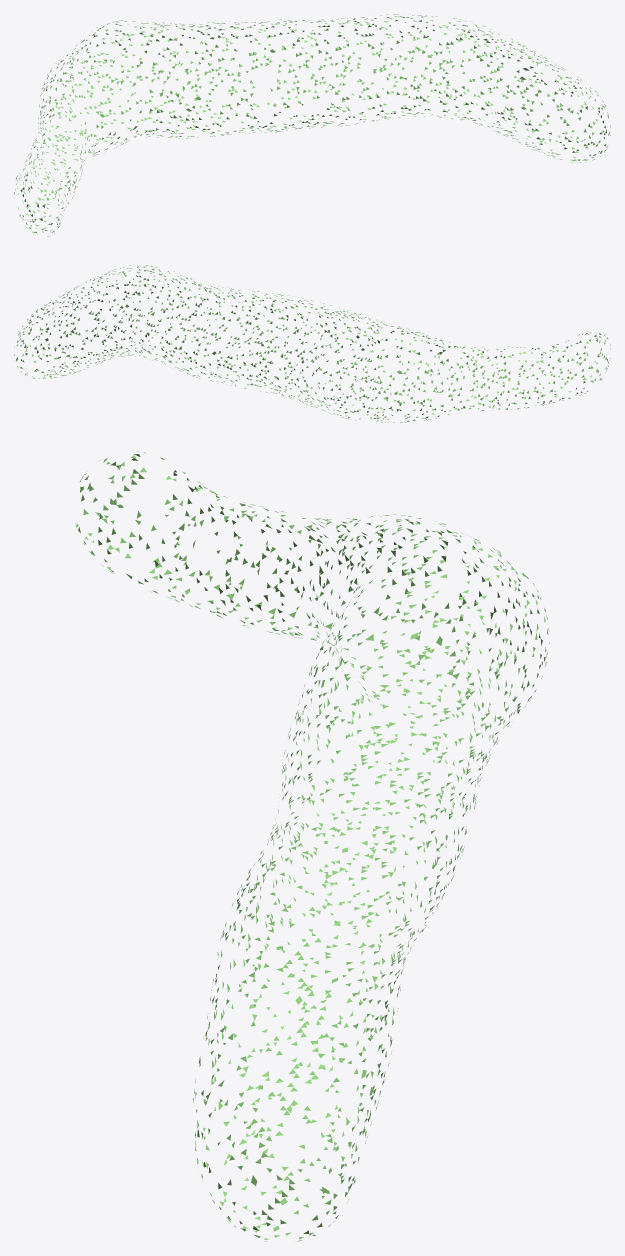
Rendered from morph_015.glb.
The picture shows the model from 3 angles, top to bottom: view 1: azimuth 30°, elevation 25°; view 2: azimuth 150°, elevation 25°; view 3: azimuth 270°, elevation 25°; orthographic projection. The views are drawn at different scales.
Bounding box in the file's own units: 131 × 39.79 × 49.49.
